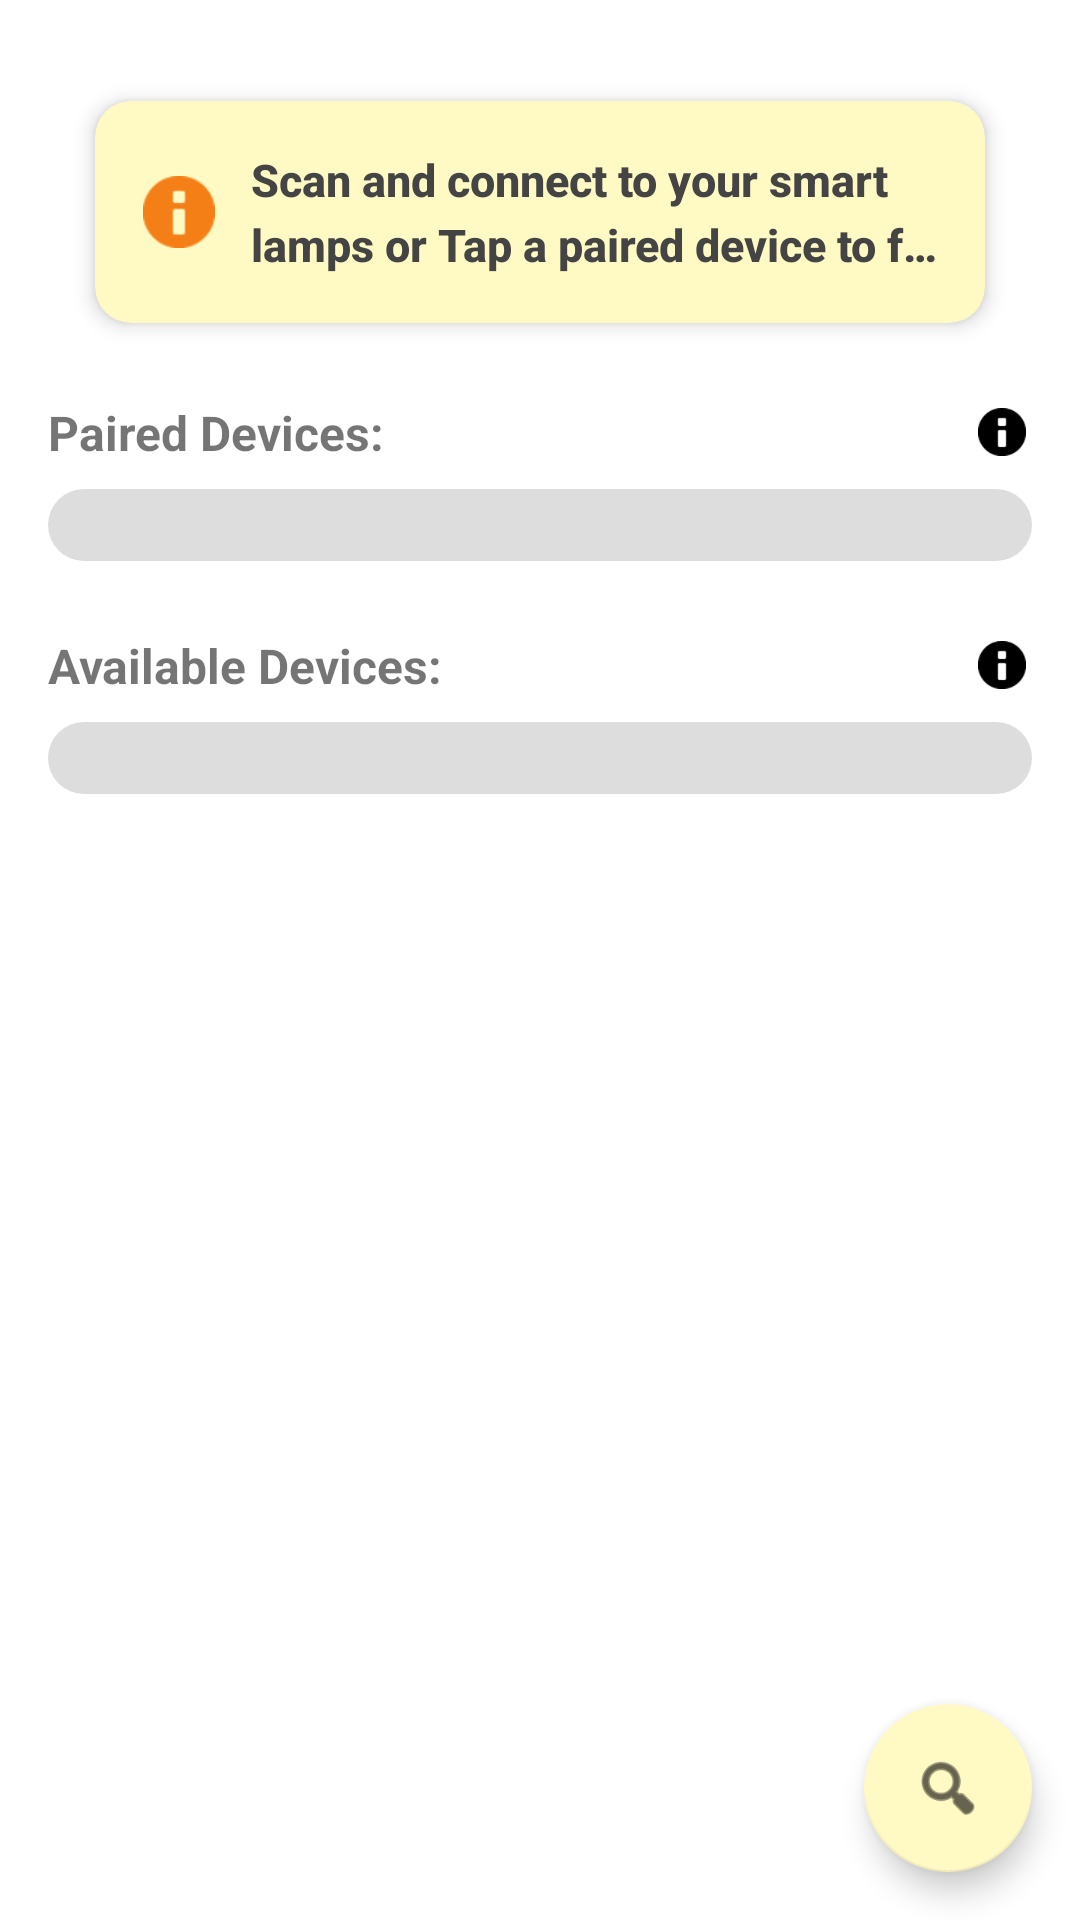

Icon bounding boxes for this 1080px×1920px phone screenshot, format (x1, y1, x2, y2):
info: (143, 176, 215, 248), (978, 408, 1026, 456), (978, 641, 1026, 689)
Scan for devices: (864, 1704, 1032, 1872)
